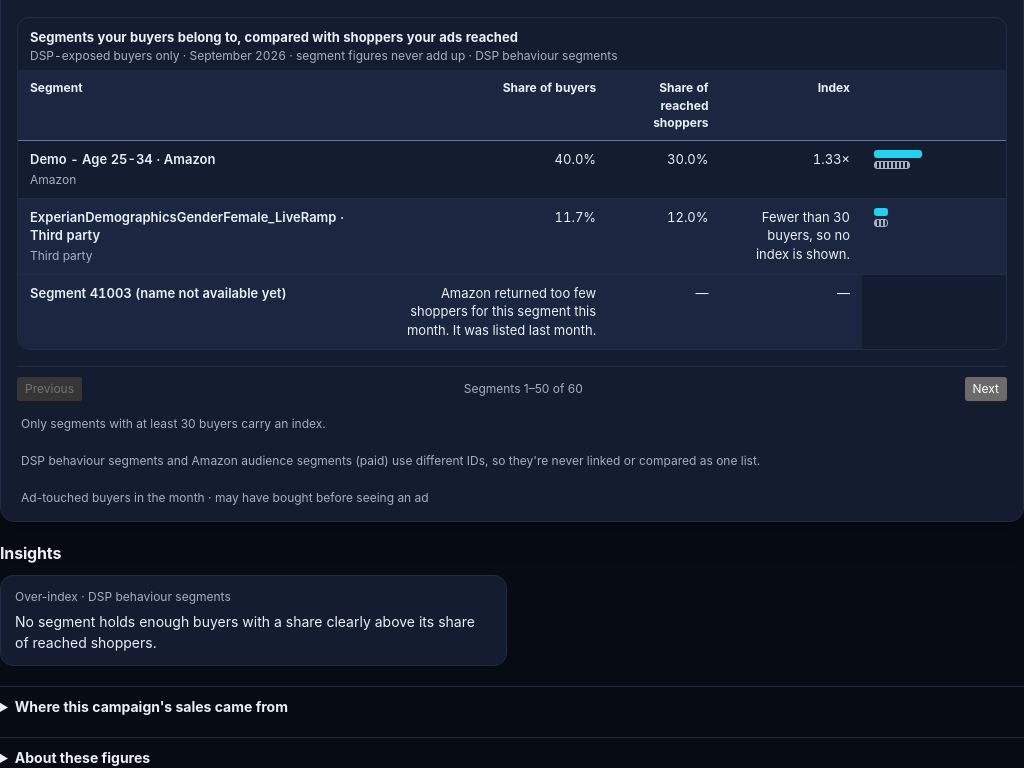
Scenario: a profile page after the first is fetched on paging, under the parent revision
(page scrolled)
Expected: the text "Segments 1–50 of 60" is shown, [464,380,583,398]
Click the button with aria-label "Next segments, DSP behaviour segments" at (986, 389), box [964,377,1007,400]
(page scrolled)
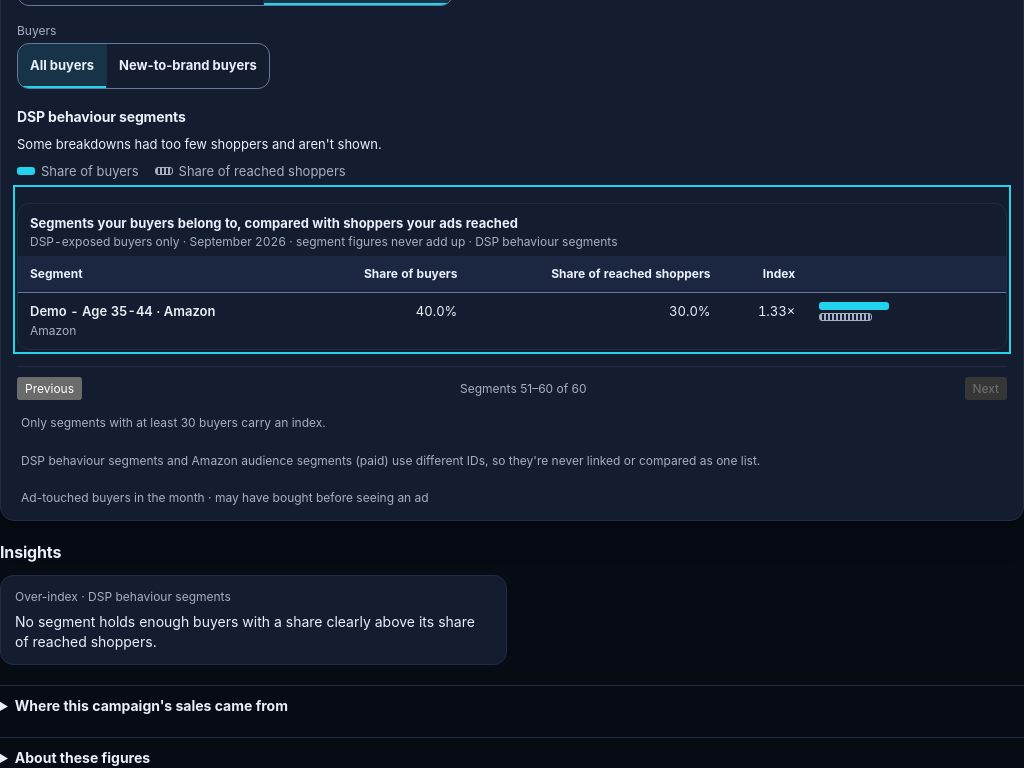
Result: the text "Segments 51–60 of 60" is shown at [460,380,587,397]
Result: the row "Demo - Age 35-44 · Amazon Amazon 40.0% 30.0% 1.33×" is shown at [18,292,1006,349]
Page 0 is the parent's own rows: going back fetches nothing.
Click the button with aria-label "Previous segments, DSP behaviour segments" at (50, 388), box [17,377,82,400]
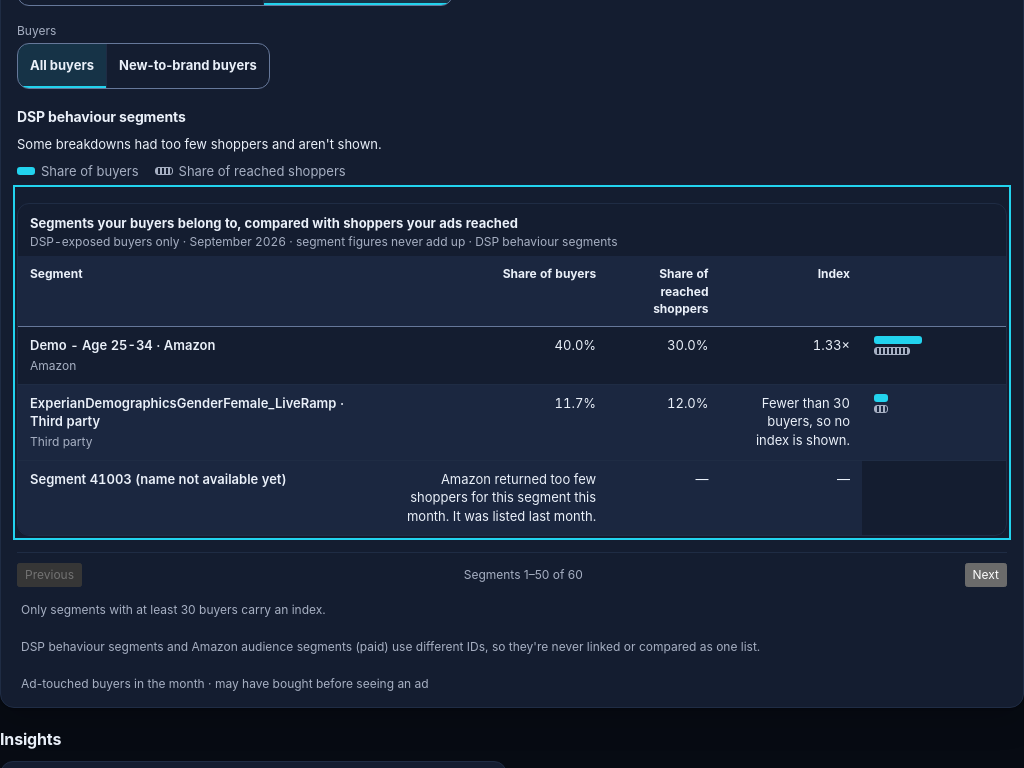
Result: the text "Segments 1–50 of 60" is shown at [464,566,583,584]
